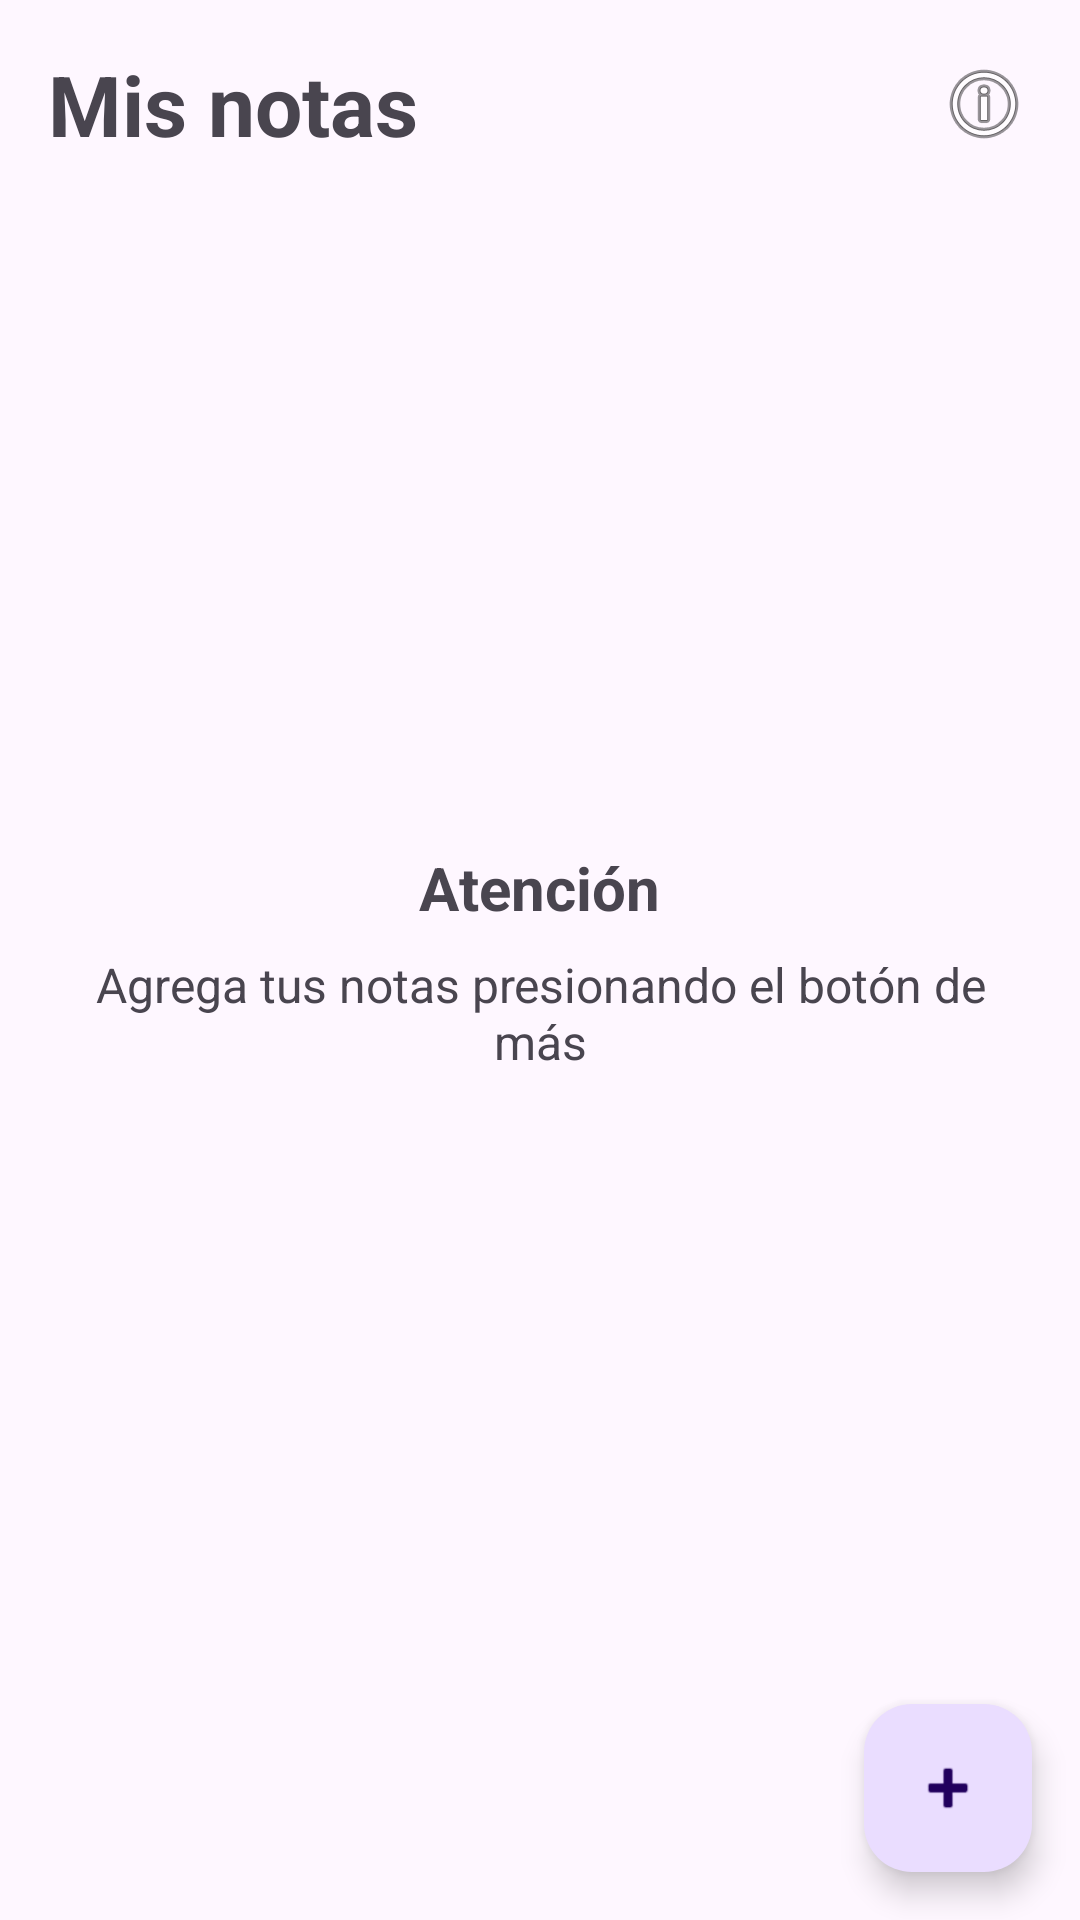

Where icons sit on this 1080×1920 app screen, as [x1,y1,x2,y2]:
Agregar nota: [864,1704,1032,1872]
info details: [949,69,1019,139]
